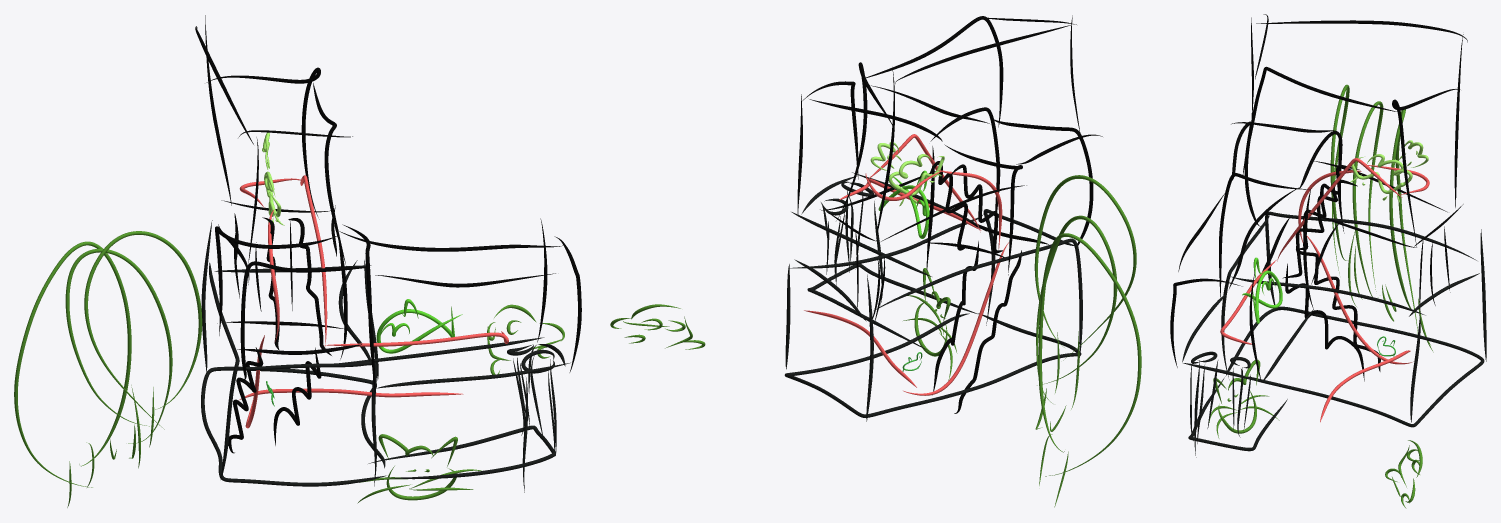
3 renders of one model, left to right at view 1: azimuth 30°, elevation 25°; view 2: azimuth 150°, elevation 25°; view 3: azimuth 270°, elevation 25°, orthographic. The views are drawn at different scales.
Parts seen in each view (by area): view 1: s.0071, s.0015, s.0064, s.0067, s.0035, s.0020, s.0082, s.0019, s.0096, s.0083, s.0126, s.0078 (+10 smaller); view 2: s.0015, s.0071, s.0064, s.0019, s.0067, s.0035, s.0097, s.0082, s.0127, s.0089, s.0096, s.0021 (+5 smaller); view 3: s.0015, s.0071, s.0067, s.0019, s.0064, s.0097, s.0096, s.0101, s.0090, s.0075, s.0021, s.0035 (+17 smaller).
Part boxes in pixels (<box>): s.0071: <box>14,241,131,487</box>; s.0015: <box>201,366,386,486</box>; s.0064: <box>84,231,202,429</box>; s.0067: <box>65,248,172,443</box>; s.0035: <box>368,425,555,479</box>; s.0020: <box>232,361,377,486</box>; s.0082: <box>240,261,366,380</box>; s.0019: <box>209,262,239,479</box>; s.0096: <box>206,67,320,219</box>; s.0083: <box>215,226,336,335</box>; s.0126: <box>239,388,463,399</box>; s.0078: <box>376,306,462,353</box>; s.0015: <box>784,313,1081,417</box>; s.0071: <box>1038,233,1141,476</box>; s.0064: <box>1034,175,1136,360</box>; s.0019: <box>873,238,1082,357</box>; s.0067: <box>1036,215,1117,403</box>; s.0035: <box>807,263,978,350</box>; s.0097: <box>866,16,1003,127</box>; s.0082: <box>993,119,1093,245</box>; s.0127: <box>903,242,1008,395</box>; s.0089: <box>954,250,1021,413</box>; s.0096: <box>836,62,894,220</box>; s.0021: <box>788,213,983,268</box>; s.0015: <box>1226,306,1484,427</box>; s.0071: <box>1389,109,1417,334</box>; s.0067: <box>1352,101,1383,297</box>; s.0019: <box>1265,211,1476,304</box>; s.0064: <box>1330,84,1349,273</box>; s.0097: <box>1242,66,1396,174</box>; s.0096: <box>1392,89,1460,246</box>; s.0101: <box>1256,20,1467,42</box>; s.0090: <box>1285,263,1364,381</box>; s.0075: <box>1219,173,1309,297</box>; s.0021: <box>1230,276,1425,315</box>; s.0035: <box>1188,377,1287,451</box>.
Size of the model in its own units: 123 by 69.42 by 93.92.
